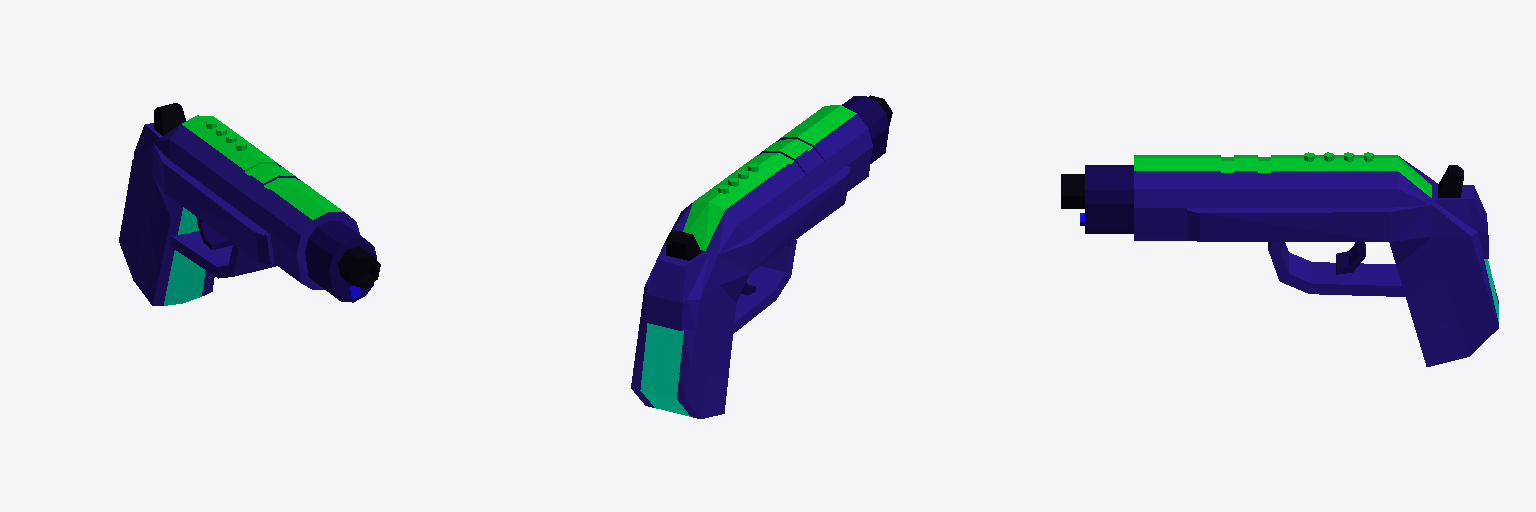
Rendered from pistol.obj.
3 renders of one model, left to right at view 1: azimuth 30°, elevation 25°; view 2: azimuth 150°, elevation 25°; view 3: azimuth 270°, elevation 25°, orthographic.
Visible parts, largest first — view 1: Cylinder, Circle.001, Cylinder.001, Cylinder.003; view 2: Cylinder, Circle.001; view 3: Cylinder, Circle.001, Cylinder.001, Cylinder.003.
Boxes of the visible parts, x1=… form: Cylinder: x1=119, y1=103, x2=376, y2=305; Circle.001: x1=170, y1=231, x2=276, y2=278; Cylinder.001: x1=338, y1=247, x2=380, y2=288; Cylinder.003: x1=197, y1=217, x2=231, y2=249; Cylinder: x1=631, y1=96, x2=888, y2=418; Circle.001: x1=733, y1=240, x2=796, y2=333; Cylinder: x1=1085, y1=155, x2=1498, y2=366; Circle.001: x1=1268, y1=242, x2=1404, y2=296; Cylinder.001: x1=1061, y1=174, x2=1084, y2=208; Cylinder.003: x1=1336, y1=242, x2=1365, y2=274.
Size of the model in its own units: 2.31 by 5.48 by 10.71.